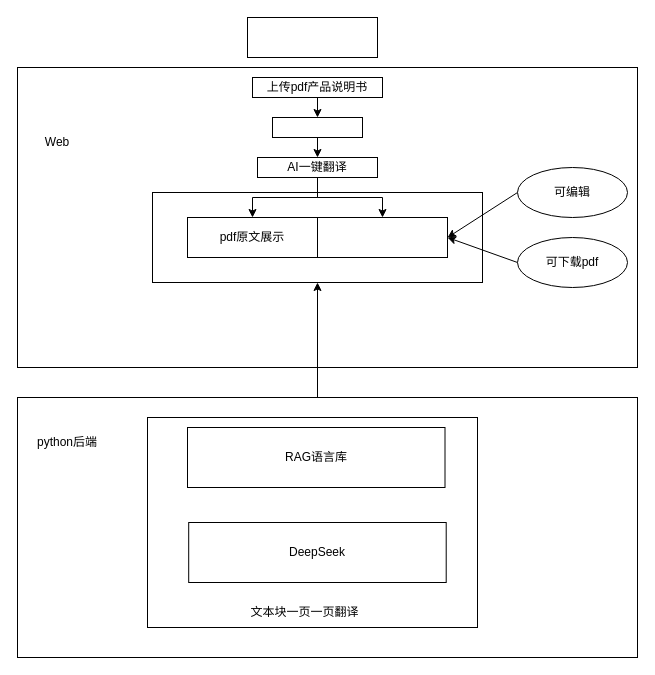
The diagram is 655 pixels wide and 675 high, and some of its shapes have lost their labels. Each missing label, with the centre of its shape:
"智能翻译文档" belongs at (x=312, y=37).
"翻译后文本" belongs at (x=382, y=237).
"选择翻译成文" belongs at (x=317, y=127).
